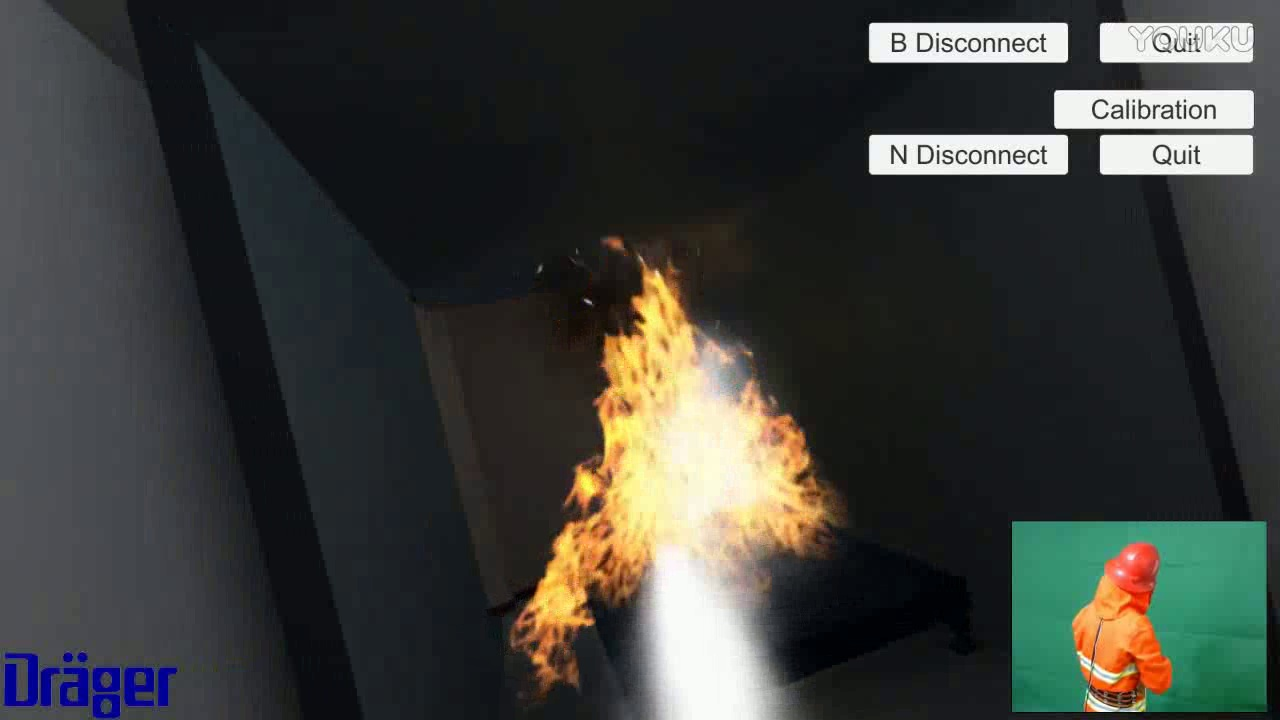fire: (518, 238, 835, 674)
